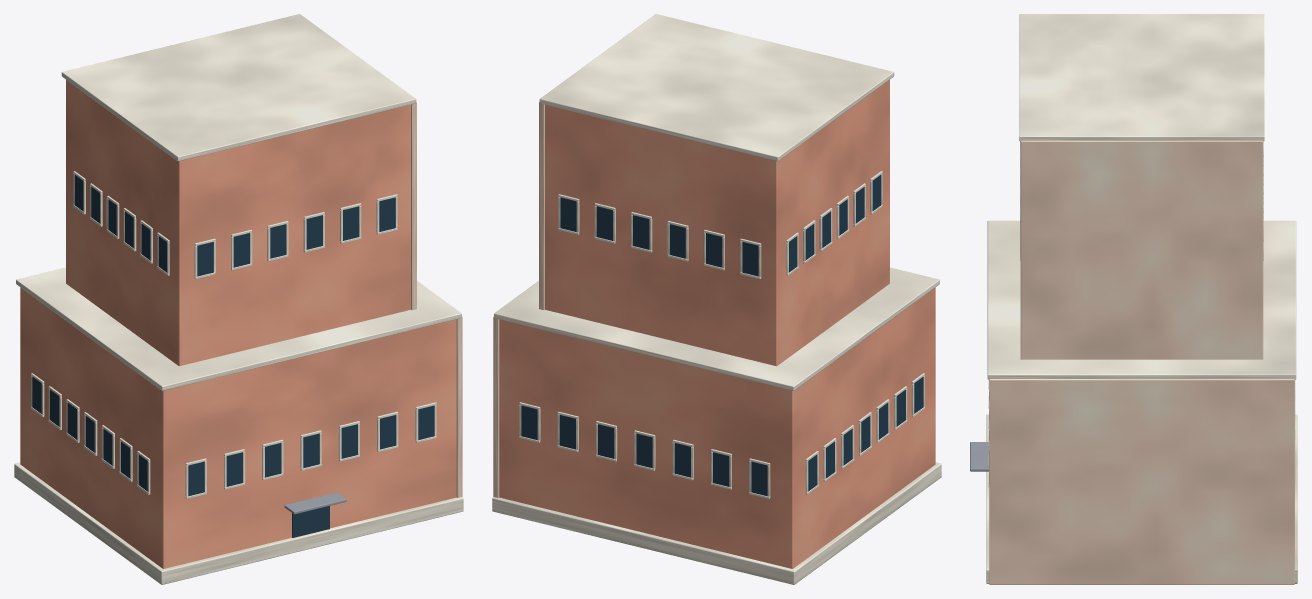
The model's file is bldg_coral_hall.glb.
3 views of the same model, side by side, from view 1: azimuth 30°, elevation 25°; view 2: azimuth 150°, elevation 25°; view 3: azimuth 270°, elevation 25° (orthographic). The views are drawn at different scales.
Parts seen in each view (by area): view 1: bldg_coral_hall_band_0_wall, bldg_coral_hall_band_1_wall, bldg_coral_hall_band_1_cornice, bldg_coral_hall_band_0_cornice, bldg_coral_hall_plinth, bldg_coral_hall_band_0_pilaster, bldg_coral_hall_band_1_pilaster, bldg_coral_hall_entrance, bldg_coral_hall_canopy; view 2: bldg_coral_hall_band_0_wall, bldg_coral_hall_band_1_wall, bldg_coral_hall_band_1_cornice, bldg_coral_hall_band_0_cornice, bldg_coral_hall_plinth, bldg_coral_hall_band_0_pilaster, bldg_coral_hall_band_1_pilaster; view 3: bldg_coral_hall_band_0_pilaster, bldg_coral_hall_band_1_pilaster, bldg_coral_hall_band_1_cornice, bldg_coral_hall_band_0_cornice, bldg_coral_hall_plinth, bldg_coral_hall_canopy.
Part boxes in pixels (x1,y1,x2,y2): bldg_coral_hall_band_0_wall: [20, 287, 456, 568]; bldg_coral_hall_band_1_wall: [66, 80, 410, 366]; bldg_coral_hall_band_1_cornice: [61, 14, 416, 161]; bldg_coral_hall_band_0_cornice: [16, 267, 461, 390]; bldg_coral_hall_plinth: [14, 462, 463, 584]; bldg_coral_hall_band_0_pilaster: [456, 316, 462, 497]; bldg_coral_hall_band_1_pilaster: [411, 102, 416, 310]; bldg_coral_hall_entrance: [292, 506, 329, 537]; bldg_coral_hall_canopy: [284, 492, 346, 514]; bldg_coral_hall_band_0_wall: [499, 287, 935, 568]; bldg_coral_hall_band_1_wall: [545, 80, 889, 366]; bldg_coral_hall_band_1_cornice: [539, 14, 894, 161]; bldg_coral_hall_band_0_cornice: [494, 267, 939, 390]; bldg_coral_hall_plinth: [492, 462, 941, 584]; bldg_coral_hall_band_0_pilaster: [493, 316, 499, 497]; bldg_coral_hall_band_1_pilaster: [539, 102, 544, 310]; bldg_coral_hall_band_0_pilaster: [989, 379, 1294, 584]; bldg_coral_hall_band_1_pilaster: [1020, 140, 1263, 359]; bldg_coral_hall_band_1_cornice: [1019, 14, 1264, 141]; bldg_coral_hall_band_0_cornice: [987, 220, 1296, 379]; bldg_coral_hall_plinth: [986, 414, 1297, 583]; bldg_coral_hall_canopy: [970, 442, 988, 471].
Size of the model in its own units: 19.51 by 25.25 by 17.35.
5 materials, 5 textured.
